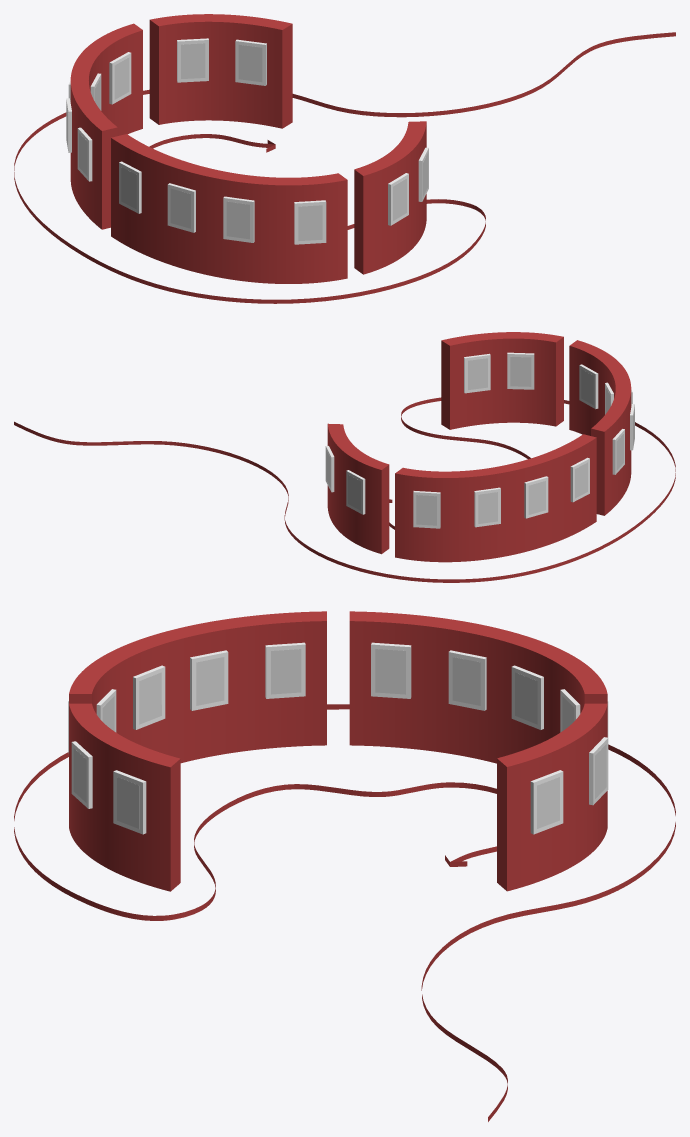
File: MODELLO1.obj
3 renders of one model, top to bottom at view 1: azimuth 30°, elevation 25°; view 2: azimuth 150°, elevation 25°; view 3: azimuth 270°, elevation 25°, orthographic. The views are drawn at different scales.
Parts seen in each view (by area): view 1: Obj_000124, Obj_000122, Obj_000123, Obj_000121, Obj_000002, Obj_000114, Obj_000093, Obj_000130, Obj_000090, Obj_000086, Obj_000094, Obj_000129 (+10 smaller); view 2: Obj_000123, Obj_000121, Obj_000124, Obj_000122, Obj_000002, Obj_000118, Obj_000109, Obj_000115, Obj_000106, Obj_000102, Obj_000117, Obj_000110 (+7 smaller); view 3: Obj_000123, Obj_000124, Obj_000121, Obj_000122, Obj_000002, Obj_000095, Obj_000079, Obj_000083, Obj_000099, Obj_000103, Obj_000127, Obj_000126 (+9 smaller).
Boxes of the visible parts, x1,y1,x2,y2 form: Obj_000124: [111, 134, 347, 283]; Obj_000122: [149, 14, 292, 128]; Obj_000123: [70, 23, 142, 229]; Obj_000121: [354, 121, 426, 274]; Obj_000002: [14, 32, 675, 303]; Obj_000114: [181, 43, 205, 78]; Obj_000093: [298, 205, 322, 241]; Obj_000130: [238, 44, 262, 82]; Obj_000090: [226, 201, 249, 239]; Obj_000086: [170, 188, 190, 228]; Obj_000094: [294, 200, 326, 244]; Obj_000129: [235, 39, 266, 85]; Obj_000123: [395, 434, 596, 562]; Obj_000121: [441, 332, 563, 429]; Obj_000124: [569, 340, 631, 515]; Obj_000122: [327, 423, 389, 554]; Obj_000002: [14, 397, 675, 582]; Obj_000118: [510, 356, 531, 386]; Obj_000109: [416, 495, 436, 525]; Obj_000115: [468, 358, 487, 389]; Obj_000106: [478, 492, 497, 523]; Obj_000102: [528, 481, 545, 514]; Obj_000117: [507, 352, 534, 389]; Obj_000110: [413, 491, 440, 528]; Obj_000123: [349, 611, 607, 763]; Obj_000124: [69, 611, 326, 763]; Obj_000121: [69, 703, 180, 891]; Obj_000122: [497, 703, 607, 891]; Obj_000002: [14, 704, 675, 1121]; Obj_000095: [375, 649, 405, 694]; Obj_000079: [271, 649, 301, 694]; Obj_000083: [196, 657, 224, 705]; Obj_000099: [452, 657, 480, 705]; Obj_000103: [515, 672, 537, 724]; Obj_000127: [537, 777, 559, 828]; Obj_000126: [117, 777, 139, 828].
Bounding box in the file's own units: 17095 × 2400 × 11575.
